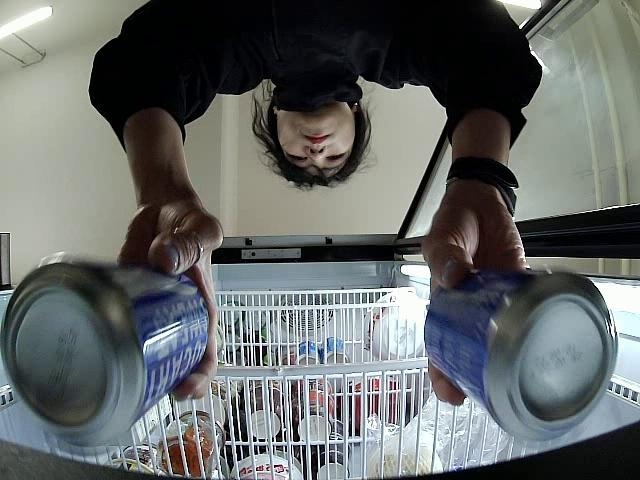00_hand: (421, 196, 529, 409), (115, 205, 218, 403)
13_pocariSweat: (2, 259, 209, 449), (421, 274, 619, 439)
